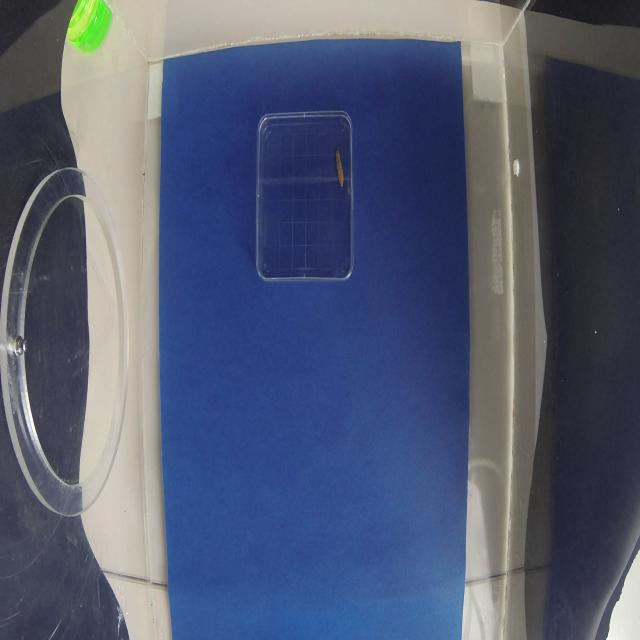larva: (336, 150, 346, 191)
